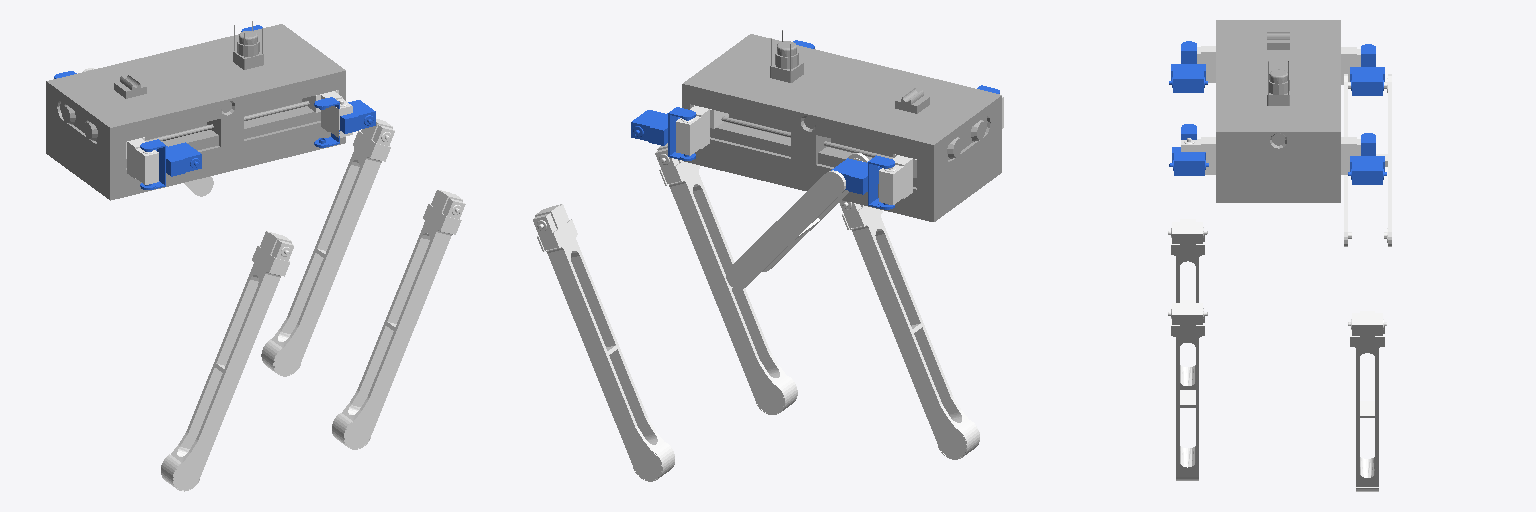
URDF robot description (dog2):
<?xml version="1.0" ?>
<!-- =================================================================================== -->
<!-- |    This document was autogenerated by xacro from src/dog2_description/urdf/dog2.urdf.xacro | -->
<!-- |    EDITING THIS FILE BY HAND IS NOT RECOMMENDED                                 | -->
<!-- =================================================================================== -->
<!--
  Dog2 Robot Description (Xacro Source)
  
  Recreated from correct URDF file
  Date: 2026-01-27
  
  INERTIA CORRECTIONS:
  - Leg 1 & 2: Positive X (front legs)
  - Leg 3 & 4: Negative X (rear legs, mirrored geometry)
-->
<robot name="dog2">
  <!-- World and base -->
  <link name="world"/>
  <joint name="world_joint" type="fixed">
    <parent link="world"/>
    <child link="base_link"/>
    <origin rpy="0 0 0" xyz="0 0 0"/>
  </joint>
  <link name="base_link">
    <inertial>
      <origin rpy="1.5708 0 0" xyz="1.2272 -0.7470 0.2649"/>
      <mass value="6.0"/>
      <inertia ixx="0.0153" ixy="0.00011" ixz="0" iyy="0.052" iyz="0" izz="0.044"/>
    </inertial>
    <visual>
      <origin rpy="0 0 0" xyz="0 0 0"/>
      <geometry>
        <mesh filename="package://dog2_description/meshes/base_link.STL"/>
      </geometry>
      <material name="">
        <color rgba="0.752941176470588 0.752941176470588 0.752941176470588 1"/>
      </material>
    </visual>
    <collision>
      <origin rpy="0 0 0" xyz="0 0 0"/>
      <geometry>
        <mesh filename="package://dog2_description/meshes/base_link.STL"/>
      </geometry>
    </collision>
  </link>
  <link name="l1">
    <inertial>
      <origin rpy="0 0 0" xyz="-0.0159999123716776 0.000737036465389251 0.0261570925915838"/>
      <mass value="0.3"/>
      <inertia ixx="0.000107100908138004" ixy="0" ixz="0" iyy="8.38648309010005E-05" iyz="0" izz="7.86994452918461E-05"/>
    </inertial>
    <visual>
      <origin rpy="0 0 0" xyz="0 0 0"/>
      <geometry>
        <mesh filename="package://dog2_description/meshes/l1.STL"/>
      </geometry>
      <material name="">
        <color rgba="1 1 1 1"/>
      </material>
    </visual>
    <collision>
      <origin rpy="0 0 0" xyz="0 0 0"/>
      <geometry>
        <mesh filename="package://dog2_description/meshes/l1.STL"/>
      </geometry>
    </collision>
  </link>
  <joint name="j1" type="prismatic">
    <origin rpy="1.5708 0 0" xyz="1.1026 -0.80953 0.2649"/>
    <parent link="base_link"/>
    <child link="l1"/>
    <axis xyz="-1 0 0"/>
    <limit effort="100" lower="-0.111" upper="0.0" velocity="5"/>
  </joint>
  <link name="l11">
    <inertial>
      <origin rpy="0 0 0" xyz="-0.0233000000000003 -0.038305456702832 0.000879463367713051"/>
      <mass value="0.25"/>
      <inertia ixx="0.0001" ixy="0" ixz="0" iyy="0.0001" iyz="0" izz="0.0001"/>
    </inertial>
    <visual>
      <origin rpy="0 0 0" xyz="0 0 0"/>
      <geometry>
        <mesh filename="package://dog2_description/meshes/l11.STL"/>
      </geometry>
      <material name="">
        <color rgba="0.266666666666667 0.529411764705882 1 1"/>
      </material>
    </visual>
    <collision>
      <origin rpy="0 0 0" xyz="0 0 0"/>
      <geometry>
        <mesh filename="package://dog2_description/meshes/l11.STL"/>
      </geometry>
    </collision>
  </link>
  <joint name="j11" type="revolute">
    <origin rpy="0 0 1.5708" xyz="-0.016 0.0199 0.055"/>
    <parent link="l1"/>
    <child link="l11"/>
    <axis xyz="-1 0 0"/>
    <limit effort="50" lower="-2.618" upper="2.618" velocity="20"/>
  </joint>
  <link name="l111">
    <inertial>
      <origin rpy="0 0 0" xyz="0.026 -0.0760041259902766 0.0649874821212071"/>
      <mass value="0.4"/>
      <inertia ixx="0.000666" ixy="0" ixz="0" iyy="0.000356" iyz="0.000266" izz="0.000534"/>
    </inertial>
    <visual>
      <origin rpy="0 0 0" xyz="0 0 0"/>
      <geometry>
        <mesh filename="package://dog2_description/meshes/l111.STL"/>
      </geometry>
      <material name="">
        <color rgba="1 1 1 1"/>
      </material>
    </visual>
    <collision>
      <origin rpy="0 0 0" xyz="0 0 0"/>
      <geometry>
        <mesh filename="package://dog2_description/meshes/l111.STL"/>
      </geometry>
    </collision>
  </link>
  <joint name="j111" type="revolute">
    <origin rpy="1.5708 1.5708 0" xyz="-0.0233 -0.055 0.0274"/>
    <parent link="l11"/>
    <child link="l111"/>
    <axis xyz="-1 0 0"/>
    <limit effort="50" lower="-2.8" upper="2.8" velocity="20"/>
  </joint>
  <link name="l1111">
    <inertial>
      <origin rpy="0 0 0" xyz="0.0254901816398352 -0.143524743603395 -0.0694046953395906"/>
      <mass value="0.5"/>
      <inertia ixx="0.004517" ixy="0.00000870" ixz="0.00000420" iyy="0.000975" iyz="-0.00176971" izz="0.003666"/>
    </inertial>
    <visual>
      <origin rpy="0 0 0" xyz="0 0 0"/>
      <geometry>
        <mesh filename="package://dog2_description/meshes/l1111.STL"/>
      </geometry>
      <material name="">
        <color rgba="1 1 1 1"/>
      </material>
    </visual>
    <collision>
      <origin rpy="0 0 0" xyz="0 0 0"/>
      <geometry>
        <mesh filename="package://dog2_description/meshes/l1111.STL"/>
      </geometry>
    </collision>
  </link>
  <joint name="j1111" type="continuous">
    <origin rpy="0 0 0" xyz="0 -0.15201 0.12997"/>
    <parent link="l111"/>
    <child link="l1111"/>
    <axis xyz="-1 0 0"/>
  </joint>
  <gazebo reference="l1111">
    <mu1>1.0</mu1>
    <mu2>1.0</mu2>
    <kp>1000000.0</kp>
    <kd>100.0</kd>
    <minDepth>0.001</minDepth>
    <maxVel>0.1</maxVel>
    <material>Gazebo/Grey</material>
  </gazebo>
  <link name="l2">
    <inertial>
      <origin rpy="0 0 0" xyz="-0.0159999123716776 0.000737036465389251 0.0261570925915838"/>
      <mass value="0.3"/>
      <inertia ixx="0.000107100908138004" ixy="0" ixz="0" iyy="8.38648309010005E-05" iyz="0" izz="7.86994452918461E-05"/>
    </inertial>
    <visual>
      <origin rpy="0 0 0" xyz="0 0 0"/>
      <geometry>
        <mesh filename="package://dog2_description/meshes/l2.STL"/>
      </geometry>
      <material name="">
        <color rgba="1 1 1 1"/>
      </material>
    </visual>
    <collision>
      <origin rpy="0 0 0" xyz="0 0 0"/>
      <geometry>
        <mesh filename="package://dog2_description/meshes/l2.STL"/>
      </geometry>
    </collision>
  </link>
  <joint name="j2" type="prismatic">
    <origin rpy="1.5708 0 0" xyz="1.3491 -0.80953 0.2649"/>
    <parent link="base_link"/>
    <child link="l2"/>
    <axis xyz="-1 0 0"/>
    <limit effort="100" lower="-0.0" upper="0.111" velocity="5"/>
  </joint>
  <link name="l21">
    <inertial>
      <origin rpy="0 0 0" xyz="-0.0233000000000003 -0.038305456702832 0.000879463367713051"/>
      <mass value="0.25"/>
      <inertia ixx="0.0001" ixy="0" ixz="0" iyy="0.0001" iyz="0" izz="0.0001"/>
    </inertial>
    <visual>
      <origin rpy="0 0 0" xyz="0 0 0"/>
      <geometry>
        <mesh filename="package://dog2_description/meshes/l21.STL"/>
      </geometry>
      <material name="">
        <color rgba="0.266666666666667 0.529411764705882 1 1"/>
      </material>
    </visual>
    <collision>
      <origin rpy="0 0 0" xyz="0 0 0"/>
      <geometry>
        <mesh filename="package://dog2_description/meshes/l21.STL"/>
      </geometry>
    </collision>
  </link>
  <joint name="j21" type="revolute">
    <origin rpy="0 0 1.5708" xyz="-0.016 0.0199 0.055"/>
    <parent link="l2"/>
    <child link="l21"/>
    <axis xyz="-1 0 0"/>
    <limit effort="50" lower="-2.618" upper="2.618" velocity="20"/>
  </joint>
  <link name="l211">
    <inertial>
      <origin rpy="0 0 0" xyz="0.026 -0.0760041259902766 0.0649874821212071"/>
      <mass value="0.4"/>
      <inertia ixx="0.000666" ixy="0" ixz="0" iyy="0.000356" iyz="0.000266" izz="0.000534"/>
    </inertial>
    <visual>
      <origin rpy="0 0 0" xyz="0 0 0"/>
      <geometry>
        <mesh filename="package://dog2_description/meshes/l211.STL"/>
      </geometry>
      <material name="">
        <color rgba="1 1 1 1"/>
      </material>
    </visual>
    <collision>
      <origin rpy="0 0 0" xyz="0 0 0"/>
      <geometry>
        <mesh filename="package://dog2_description/meshes/l211.STL"/>
      </geometry>
    </collision>
  </link>
  <joint name="j211" type="revolute">
    <origin rpy="1.5708 1.5708 0" xyz="-0.0233 -0.055 0.0274"/>
    <parent link="l21"/>
    <child link="l211"/>
    <axis xyz="-1 0 0"/>
    <limit effort="50" lower="-2.8" upper="2.8" velocity="20"/>
  </joint>
  <link name="l2111">
    <inertial>
      <origin rpy="0 0 0" xyz="0.0254901816398352 -0.143524743603395 -0.0694046953395906"/>
      <mass value="0.5"/>
      <inertia ixx="0.004517" ixy="0.00000870" ixz="0.00000420" iyy="0.000975" iyz="-0.00176971" izz="0.003666"/>
    </inertial>
    <visual>
      <origin rpy="0 0 0" xyz="0 0 0"/>
      <geometry>
        <mesh filename="package://dog2_description/meshes/l2111.STL"/>
      </geometry>
      <material name="">
        <color rgba="1 1 1 1"/>
      </material>
    </visual>
    <collision>
      <origin rpy="0 0 0" xyz="0 0 0"/>
      <geometry>
        <mesh filename="package://dog2_description/meshes/l2111.STL"/>
      </geometry>
    </collision>
  </link>
  <joint name="j2111" type="continuous">
    <origin rpy="0 0 0" xyz="0 -0.15201 0.12997"/>
    <parent link="l211"/>
    <child link="l2111"/>
    <axis xyz="-1 0 0"/>
  </joint>
  <gazebo reference="l2111">
    <mu1>1.0</mu1>
    <mu2>1.0</mu2>
    <kp>1000000.0</kp>
    <kd>100.0</kd>
    <minDepth>0.001</minDepth>
    <maxVel>0.1</maxVel>
    <material>Gazebo/Grey</material>
  </gazebo>
  <link name="l3">
    <inertial>
      <origin rpy="0 0 0" xyz="-0.0159999123716776 0.000737036465389251 0.0261570925915838"/>
      <mass value="0.3"/>
      <inertia ixx="0.000107100908138004" ixy="0" ixz="0" iyy="8.38648309010005E-05" iyz="0" izz="7.86994452918461E-05"/>
    </inertial>
    <visual>
      <origin rpy="0 0 0" xyz="0 0 0"/>
      <geometry>
        <mesh filename="package://dog2_description/meshes/l3.STL"/>
      </geometry>
      <material name="">
        <color rgba="1 1 1 1"/>
      </material>
    </visual>
    <collision>
      <origin rpy="0 0 0" xyz="0 0 0"/>
      <geometry>
        <mesh filename="package://dog2_description/meshes/l3.STL"/>
      </geometry>
    </collision>
  </link>
  <joint name="j3" type="prismatic">
    <origin rpy="1.5708 0 -3.1416" xyz="1.3491 -0.68953 0.2649"/>
    <parent link="base_link"/>
    <child link="l3"/>
    <axis xyz="-1 0 0"/>
    <limit effort="100" lower="-0.111" upper="0.0" velocity="5"/>
  </joint>
  <link name="l31">
    <inertial>
      <origin rpy="0 0 0" xyz="-0.0233000000000003 -0.038305456702832 0.000879463367713051"/>
      <mass value="0.25"/>
      <inertia ixx="0.0001" ixy="0" ixz="0" iyy="0.0001" iyz="0" izz="0.0001"/>
    </inertial>
    <visual>
      <origin rpy="0 0 0" xyz="0 0 0"/>
      <geometry>
        <mesh filename="package://dog2_description/meshes/l31.STL"/>
      </geometry>
      <material name="">
        <color rgba="0.266666666666667 0.529411764705882 1 1"/>
      </material>
    </visual>
    <collision>
      <origin rpy="0 0 0" xyz="0 0 0"/>
      <geometry>
        <mesh filename="package://dog2_description/meshes/l31.STL"/>
      </geometry>
    </collision>
  </link>
  <joint name="j31" type="revolute">
    <origin rpy="3.1416 0 1.5708" xyz="-0.016 0.0199 0.055"/>
    <parent link="l3"/>
    <child link="l31"/>
    <axis xyz="-1 0 0"/>
    <limit effort="50" lower="-2.618" upper="2.618" velocity="20"/>
  </joint>
  <link name="l311">
    <inertial>
      <origin rpy="0 0 0" xyz="-0.0259999999999999 -0.0760041259902766 0.0649874821212069"/>
      <mass value="0.4"/>
      <inertia ixx="0.000666" ixy="0" ixz="0" iyy="0.000356" iyz="0.000266" izz="0.000534"/>
    </inertial>
    <visual>
      <origin rpy="0 0 0" xyz="0 0 0"/>
      <geometry>
        <mesh filename="package://dog2_description/meshes/l311.STL"/>
      </geometry>
      <material name="">
        <color rgba="1 1 1 1"/>
      </material>
    </visual>
    <collision>
      <origin rpy="0 0 0" xyz="0 0 0"/>
      <geometry>
        <mesh filename="package://dog2_description/meshes/l311.STL"/>
      </geometry>
    </collision>
  </link>
  <joint name="j311" type="revolute">
    <origin rpy="1.5708 1.5708 0" xyz="-0.0233 -0.055 -0.0254"/>
    <parent link="l31"/>
    <child link="l311"/>
    <axis xyz="-1 0 0"/>
    <limit effort="50" lower="-2.8" upper="2.8" velocity="20"/>
  </joint>
  <link name="l3111">
    <inertial>
      <origin rpy="0 0 0" xyz="-0.0265098183601649 -0.143524743603395 -0.0694046953395908"/>
      <mass value="0.5"/>
      <inertia ixx="0.004517" ixy="0.00000870" ixz="0.00000420" iyy="0.000975" iyz="-0.00176971" izz="0.003666"/>
    </inertial>
    <visual>
      <origin rpy="0 0 0" xyz="0 0 0"/>
      <geometry>
        <mesh filename="package://dog2_description/meshes/l3111.STL"/>
      </geometry>
      <material name="">
        <color rgba="1 1 1 1"/>
      </material>
    </visual>
    <collision>
      <origin rpy="0 0 0" xyz="0 0 0"/>
      <geometry>
        <mesh filename="package://dog2_description/meshes/l3111.STL"/>
      </geometry>
    </collision>
  </link>
  <joint name="j3111" type="continuous">
    <origin rpy="0 0 0" xyz="0 -0.15201 0.12997"/>
    <parent link="l311"/>
    <child link="l3111"/>
    <axis xyz="-1 0 0"/>
  </joint>
  <gazebo reference="l3111">
    <mu1>1.0</mu1>
    <mu2>1.0</mu2>
    <kp>1000000.0</kp>
    <kd>100.0</kd>
    <minDepth>0.001</minDepth>
    <maxVel>0.1</maxVel>
    <material>Gazebo/Grey</material>
  </gazebo>
  <link name="l4">
    <inertial>
      <origin rpy="0 0 0" xyz="-0.0159999123716776 0.000737036465389251 0.0261570925915838"/>
      <mass value="0.3"/>
      <inertia ixx="0.000107100908138004" ixy="0" ixz="0" iyy="8.38648309010005E-05" iyz="0" izz="7.86994452918461E-05"/>
    </inertial>
    <visual>
      <origin rpy="0 0 0" xyz="0 0 0"/>
      <geometry>
        <mesh filename="package://dog2_description/meshes/l4.STL"/>
      </geometry>
      <material name="">
        <color rgba="1 1 1 1"/>
      </material>
    </visual>
    <collision>
      <origin rpy="0 0 0" xyz="0 0 0"/>
      <geometry>
        <mesh filename="package://dog2_description/meshes/l4.STL"/>
      </geometry>
    </collision>
  </link>
  <joint name="j4" type="prismatic">
    <origin rpy="1.5708 0 -3.1416" xyz="1.1071 -0.68953 0.2649"/>
    <parent link="base_link"/>
    <child link="l4"/>
    <axis xyz="-1 0 0"/>
    <limit effort="100" lower="-0.0" upper="0.111" velocity="5"/>
  </joint>
  <link name="l41">
    <inertial>
      <origin rpy="0 0 0" xyz="-0.0233000000000003 -0.038305456702832 0.000879463367713051"/>
      <mass value="0.25"/>
      <inertia ixx="0.0001" ixy="0" ixz="0" iyy="0.0001" iyz="0" izz="0.0001"/>
    </inertial>
    <visual>
      <origin rpy="0 0 0" xyz="0 0 0"/>
      <geometry>
        <mesh filename="package://dog2_description/meshes/l41.STL"/>
      </geometry>
      <material name="">
        <color rgba="0.266666666666667 0.529411764705882 1 1"/>
      </material>
    </visual>
    <collision>
      <origin rpy="0 0 0" xyz="0 0 0"/>
      <geometry>
        <mesh filename="package://dog2_description/meshes/l41.STL"/>
      </geometry>
    </collision>
  </link>
  <joint name="j41" type="revolute">
    <origin rpy="3.1416 0 1.5708" xyz="0.0116 0.0199 0.055"/>
    <parent link="l4"/>
    <child link="l41"/>
    <axis xyz="-1 0 0"/>
    <limit effort="50" lower="-2.618" upper="2.618" velocity="20"/>
  </joint>
  <link name="l411">
    <inertial>
      <origin rpy="0 0 0" xyz="-0.026 -0.0760041259902766 0.0649874821212069"/>
      <mass value="0.4"/>
      <inertia ixx="0.000666" ixy="0" ixz="0" iyy="0.000356" iyz="0.000266" izz="0.000534"/>
    </inertial>
    <visual>
      <origin rpy="0 3.1416 0" xyz="0 0 0"/>
      <geometry>
        <mesh filename="package://dog2_description/meshes/l411.STL"/>
      </geometry>
      <material name="">
        <color rgba="1 1 1 1"/>
      </material>
    </visual>
    <collision>
      <origin rpy="0 3.1416 0" xyz="0 0 0"/>
      <geometry>
        <mesh filename="package://dog2_description/meshes/l411.STL"/>
      </geometry>
    </collision>
  </link>
  <joint name="j411" type="revolute">
    <origin rpy="1.5708 1.5708 0" xyz="-0.0233 -0.055 -0.0254"/>
    <parent link="l41"/>
    <child link="l411"/>
    <axis xyz="-1 0 0"/>
    <limit effort="50" lower="-2.8" upper="2.8" velocity="20"/>
  </joint>
  <link name="l4111">
    <inertial>
      <origin rpy="0 0 0" xyz="-0.0265089672547710 -0.1429895138560395 -0.0691152554666486"/>
      <mass value="0.5"/>
      <inertia ixx="0.004517" ixy="0.00000870" ixz="0.00000420" iyy="0.000975" iyz="-0.00176971" izz="0.003666"/>
    </inertial>
    <visual>
      <origin rpy="0 0 0" xyz="0 0 0"/>
      <geometry>
        <mesh filename="package://dog2_description/meshes/l4111.STL"/>
      </geometry>
      <material name="">
        <color rgba="1 1 1 1"/>
      </material>
    </visual>
    <collision>
      <origin rpy="0 0 0" xyz="0 0 0"/>
      <geometry>
        <mesh filename="package://dog2_description/meshes/l4111.STL"/>
      </geometry>
    </collision>
  </link>
  <joint name="j4111" type="continuous">
    <origin rpy="0 0 0" xyz="0 -0.15201 0.12997"/>
    <parent link="l411"/>
    <child link="l4111"/>
    <axis xyz="-1 0 0"/>
  </joint>
  <gazebo reference="l4111">
    <mu1>1.0</mu1>
    <mu2>1.0</mu2>
    <kp>1000000.0</kp>
    <kd>100.0</kd>
    <minDepth>0.001</minDepth>
    <maxVel>0.1</maxVel>
    <material>Gazebo/Grey</material>
  </gazebo>
  <!-- ROS 2 Control -->
  <ros2_control name="GazeboSystem" type="system">
    <hardware>
      <plugin>gazebo_ros2_control/GazeboSystem</plugin>
    </hardware>
    <joint name="j1">
      <command_interface name="effort"/>
      <command_interface name="position"/>
      <state_interface name="position"/>
      <state_interface name="velocity"/>
      <state_interface name="effort"/>
    </joint>
    <joint name="j11">
      <command_interface name="effort"/>
      <command_interface name="position"/>
      <state_interface name="position"/>
      <state_interface name="velocity"/>
      <state_interface name="effort"/>
    </joint>
    <joint name="j111">
      <command_interface name="effort"/>
      <command_interface name="position"/>
      <state_interface name="position"/>
      <state_interface name="velocity"/>
      <state_interface name="effort"/>
    </joint>
    <joint name="j2">
      <command_interface name="effort"/>
      <command_interface name="position"/>
      <state_interface name="position"/>
      <state_interface name="velocity"/>
      <state_interface name="effort"/>
    </joint>
    <joint name="j21">
      <command_interface name="effort"/>
      <command_interface name="position"/>
      <state_interface name="position"/>
      <state_interface name="velocity"/>
      <state_interface name="effort"/>
    </joint>
    <joint name="j211">
      <command_interface name="effort"/>
      <command_interface name="position"/>
      <state_interface name="position"/>
      <state_interface name="velocity"/>
      <state_interface name="effort"/>
    </joint>
    <joint name="j3">
      <command_interface name="effort"/>
      <command_interface name="position"/>
      <state_interface name="position"/>
      <state_interface name="velocity"/>
      <state_interface name="effort"/>
    </joint>
    <joint name="j31">
      <command_interface name="effort"/>
      <command_interface name="position"/>
      <state_interface name="position"/>
      <state_interface name="velocity"/>
      <state_interface name="effort"/>
    </joint>
    <joint name="j311">
      <command_interface name="effort"/>
      <command_interface name="position"/>
      <state_interface name="position"/>
      <state_interface name="velocity"/>
      <state_interface name="effort"/>
    </joint>
    <joint name="j4">
      <command_interface name="effort"/>
      <command_interface name="position"/>
      <state_interface name="position"/>
      <state_interface name="velocity"/>
      <state_interface name="effort"/>
    </joint>
    <joint name="j41">
      <command_interface name="effort"/>
      <command_interface name="position"/>
      <state_interface name="position"/>
      <state_interface name="velocity"/>
      <state_interface name="effort"/>
    </joint>
    <joint name="j411">
      <command_interface name="effort"/>
      <command_interface name="position"/>
      <state_interface name="position"/>
      <state_interface name="velocity"/>
      <state_interface name="effort"/>
    </joint>
  </ros2_control>
  <gazebo>
    <plugin filename="libgazebo_ros2_control.so" name="gazebo_ros2_control">
      <parameters>/home/dell/aperfect/carbot_ws/install/dog2_description/share/dog2_description/config/ros2_controllers.yaml</parameters>
      <robot_param>robot_description</robot_param>
      <robot_param_node>robot_state_publisher</robot_param_node>
    </plugin>
  </gazebo>
</robot>

--- Facts derived from the render (not from the file) ---
The picture shows the robot from 3 angles, left to right: view 1: azimuth 30°, elevation 25°; view 2: azimuth 150°, elevation 25°; view 3: azimuth 270°, elevation 25°; orthographic projection.
Model dog2 with 18 links and 17 joints (8 revolute, 4 continuous, 4 prismatic, 1 fixed), rooted at world, posed every joint at zero.
Visible links, largest first — view 1: base_link, l2111, l1111, l3111, l11, l21, l1, l2; view 2: base_link, l3111, l1111, l2111, l411, l31, l41, l3, l4; view 3: base_link, l3111, l2111, l1111, l411, l11, l31, l41, l21, l2, l3.
Boxes of the visible links, x1=… form: base_link: x1=46, y1=21, x2=345, y2=200; l2111: x1=332, y1=190, x2=465, y2=449; l1111: x1=161, y1=231, x2=293, y2=491; l3111: x1=261, y1=119, x2=394, y2=376; l11: x1=140, y1=139, x2=201, y2=189; l21: x1=314, y1=97, x2=375, y2=147; l1: x1=126, y1=137, x2=158, y2=184; l2: x1=302, y1=90, x2=352, y2=137; base_link: x1=682, y1=30, x2=1001, y2=221; l3111: x1=533, y1=204, x2=674, y2=481; l1111: x1=839, y1=200, x2=979, y2=459; l2111: x1=655, y1=143, x2=797, y2=414; l411: x1=726, y1=153, x2=868, y2=289; l31: x1=631, y1=107, x2=695, y2=160; l41: x1=831, y1=155, x2=894, y2=209; l3: x1=676, y1=105, x2=728, y2=155; l4: x1=879, y1=154, x2=916, y2=204; base_link: x1=1216, y1=20, x2=1340, y2=202; l3111: x1=1348, y1=311, x2=1386, y2=491; l2111: x1=1168, y1=300, x2=1207, y2=480; l1111: x1=1168, y1=219, x2=1207, y2=389; l411: x1=1344, y1=74, x2=1391, y2=246; l11: x1=1169, y1=41, x2=1207, y2=92; l31: x1=1348, y1=133, x2=1386, y2=184; l41: x1=1350, y1=44, x2=1384, y2=95; l21: x1=1169, y1=124, x2=1208, y2=175; l2: x1=1181, y1=137, x2=1215, y2=174; l3: x1=1341, y1=137, x2=1360, y2=174.
Bounding box of the posed robot: 0.5159 × 0.2876 × 0.5484 m (x, y, z).
13 mesh visuals loaded from 17 distinct referenced files (13 binary STL); not drawn: 4 (reference not matched to a file when rendering).
